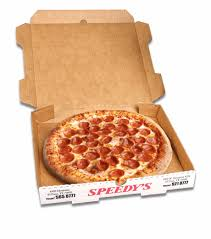pizza: (49, 114, 169, 180)
